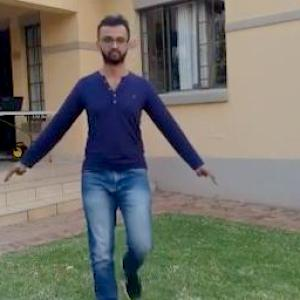land: (3, 1, 231, 299)
